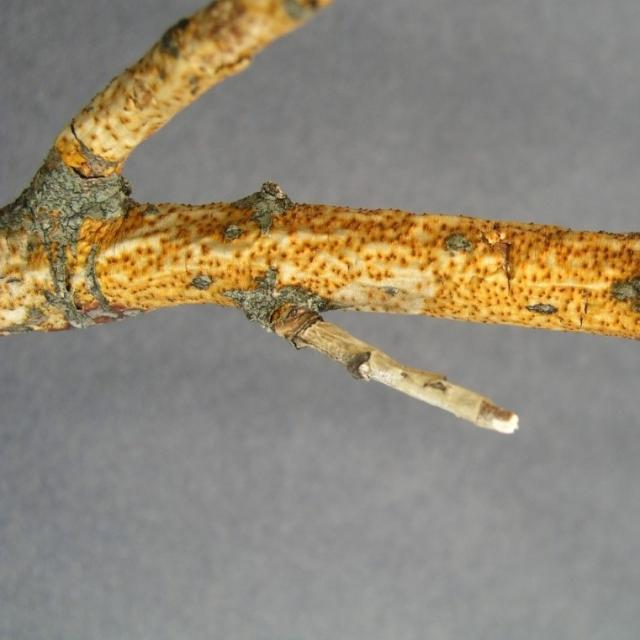Golden_canker: (1, 0, 638, 437)
